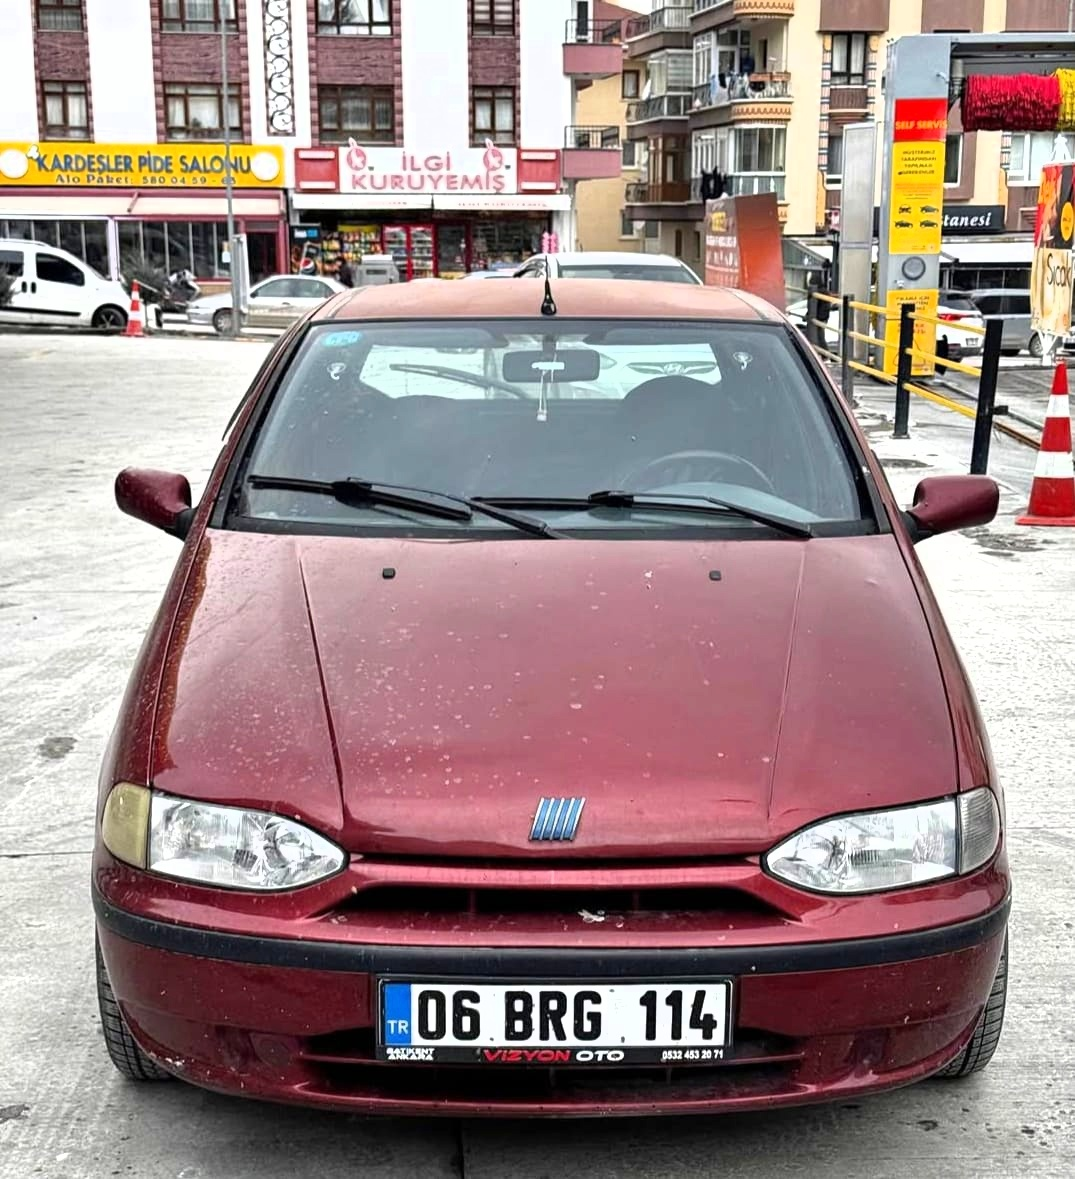plaka: (410, 962, 743, 1056)
